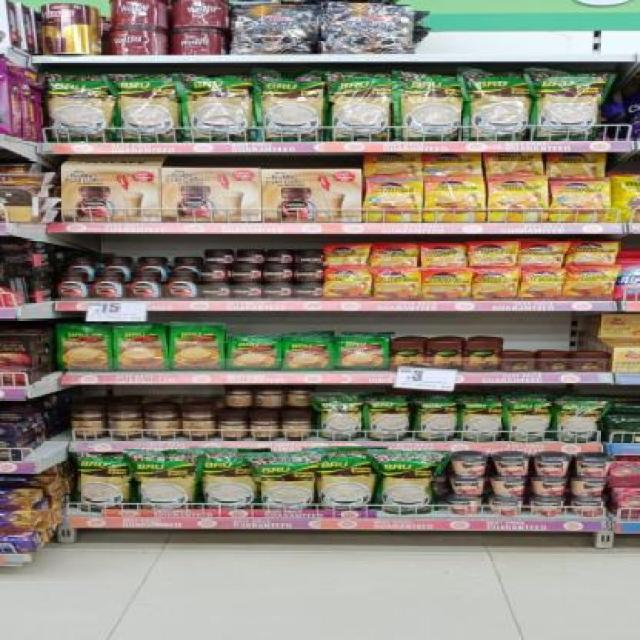Coffee: (488, 176, 550, 222), (364, 176, 422, 222), (426, 178, 486, 222), (550, 178, 610, 222), (420, 268, 468, 298), (568, 266, 614, 297), (472, 268, 519, 298), (520, 267, 562, 298), (326, 266, 369, 296), (468, 242, 518, 267), (373, 268, 416, 297), (419, 244, 466, 267), (520, 241, 565, 265), (570, 242, 616, 264), (126, 271, 163, 298), (88, 272, 125, 298), (374, 243, 415, 266), (53, 272, 89, 298), (165, 272, 198, 299), (330, 244, 368, 267), (260, 264, 295, 281), (232, 263, 262, 280), (202, 263, 229, 280), (203, 282, 231, 298), (235, 282, 262, 298), (268, 282, 294, 298), (299, 283, 323, 299), (208, 249, 235, 263), (267, 248, 293, 262), (238, 248, 264, 262), (298, 249, 324, 263), (297, 266, 323, 280)
